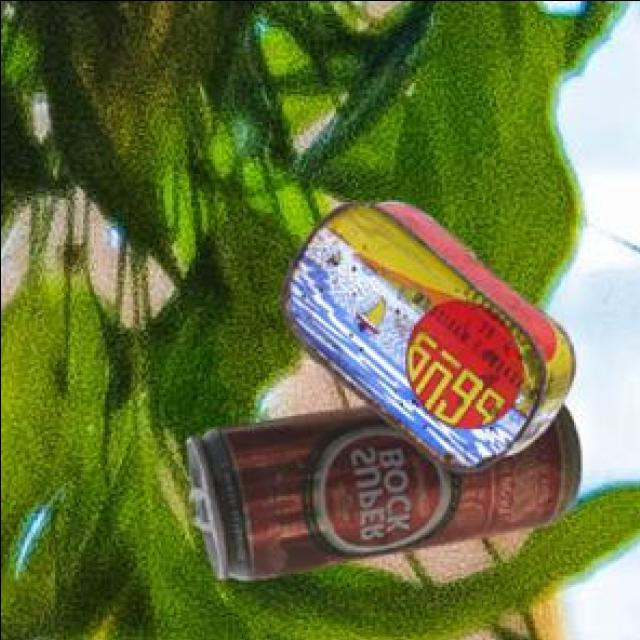logam: (278, 204, 570, 475), (183, 405, 576, 583)
